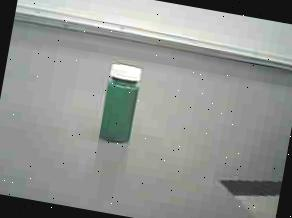Bottle C: (88, 57, 152, 155)
